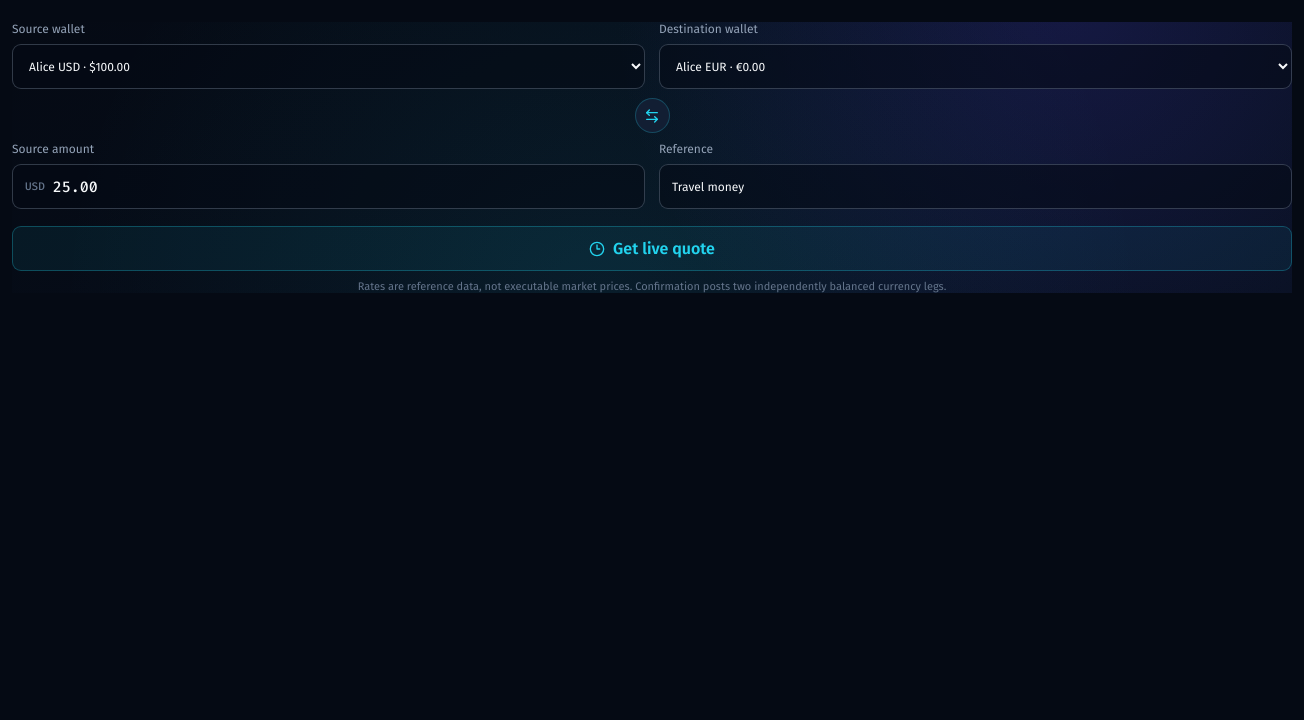
FxConversionForm › requests an exact quote, confirms it once, and invalidates it when inputs change
Click the button "Get live quote" at (652, 248), box [12,226,1292,271]
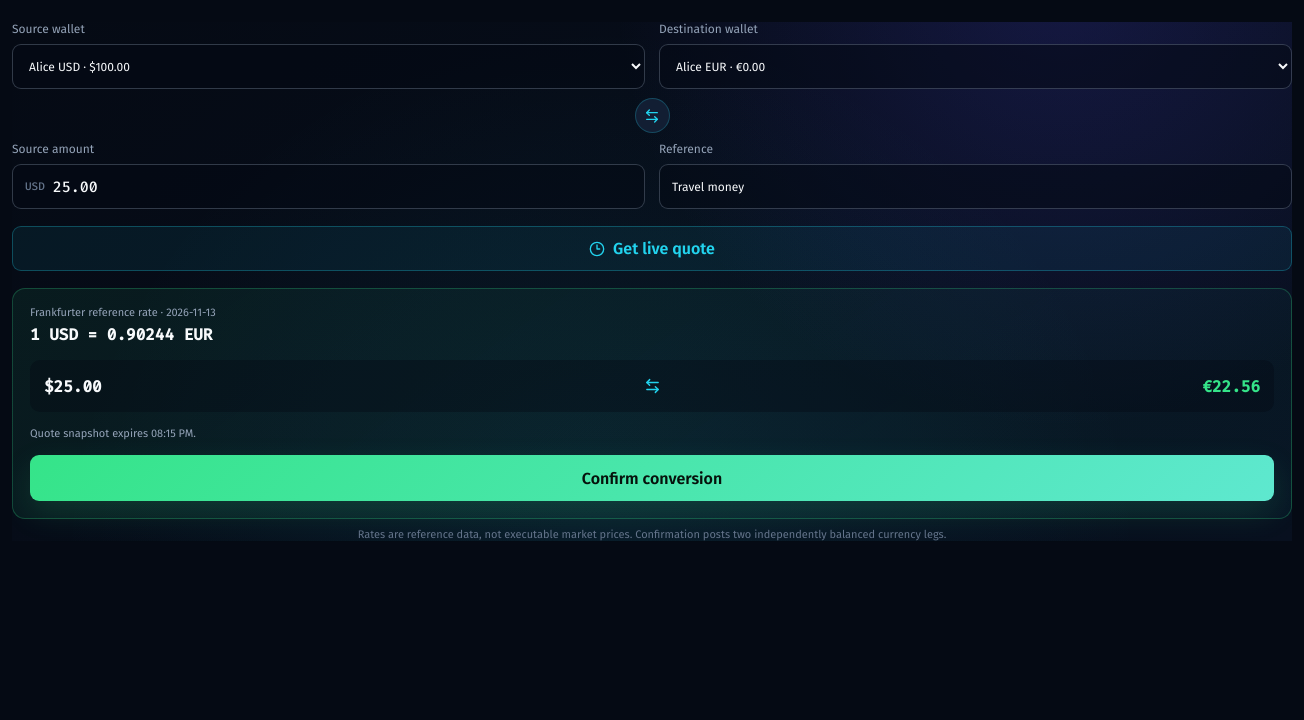
Expected: the text "1 USD = 0.90244 EUR" is shown, [30,324,212,345]
Click the button "Confirm conversion" at (652, 478), box [30,455,1274,501]
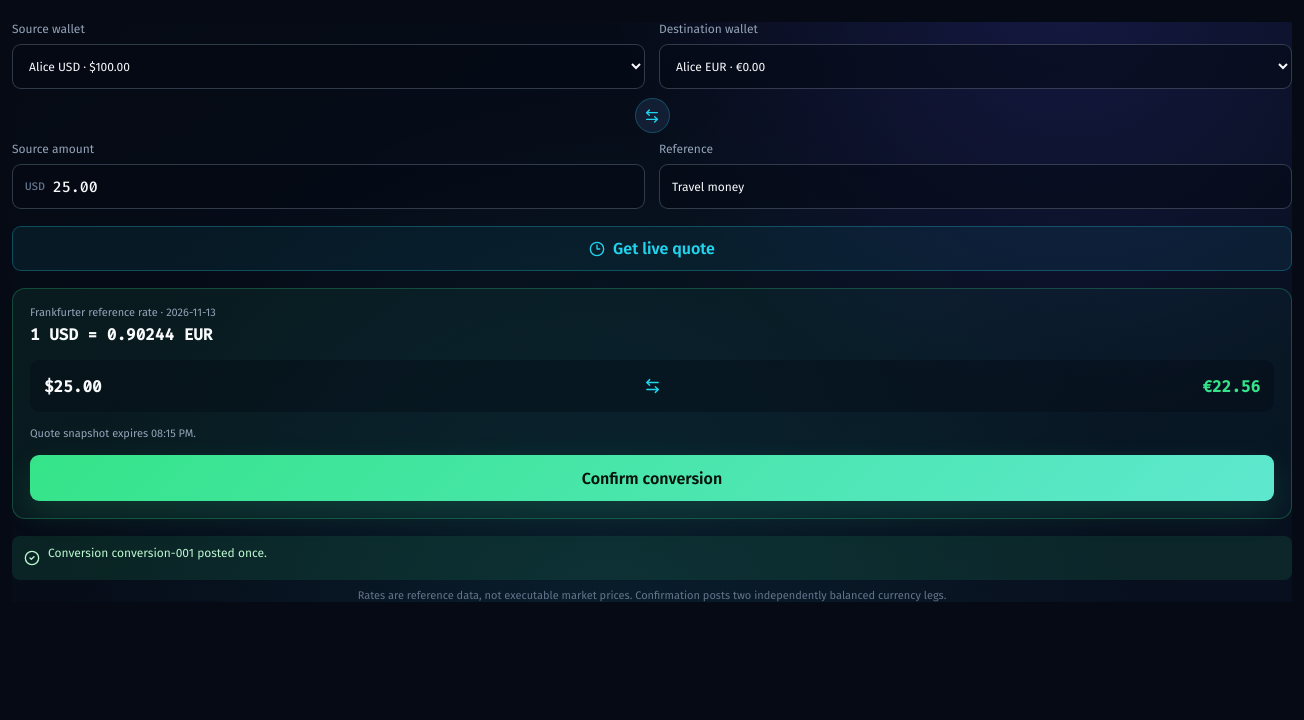
Expected: the message shows "conversion-001", [112,546,194,560]
Replace the text in the field labelled "Source amount" with "26.00" at (338, 186), box [45,166,632,207]
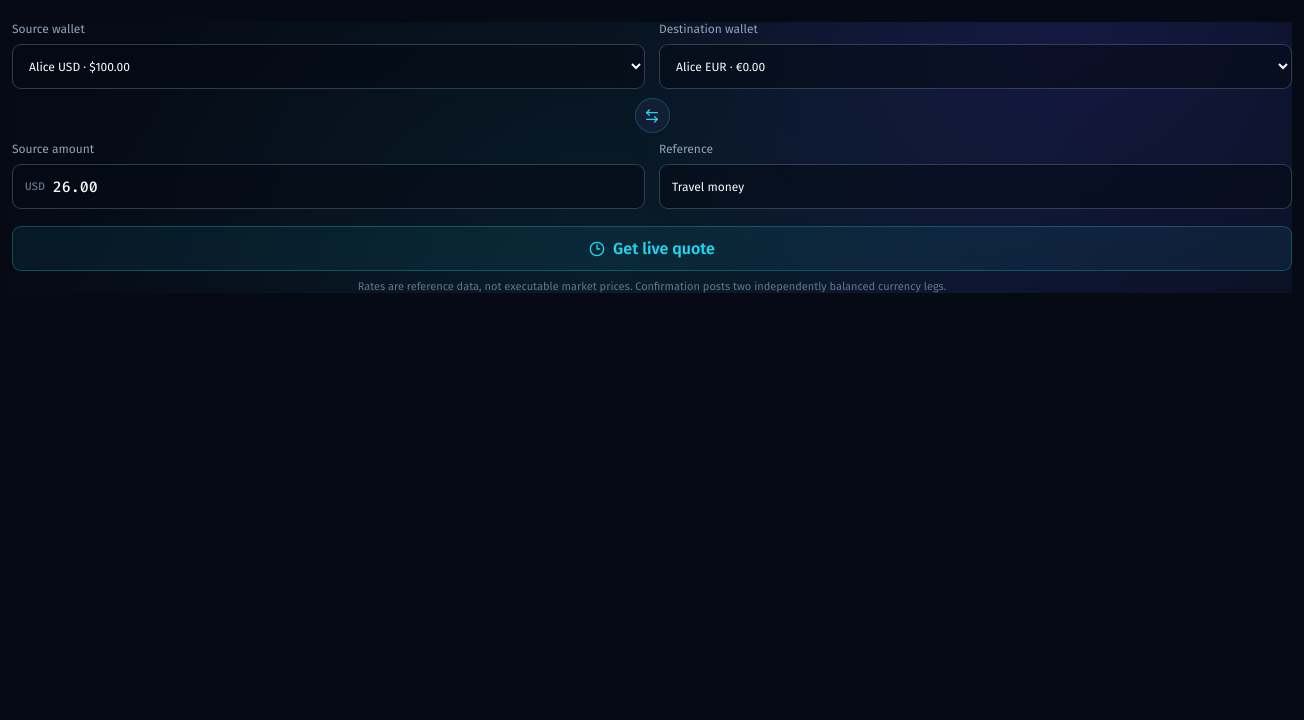
Expected: the text "1 USD = 0.90244 EUR" is gone
Expected: the button "Confirm conversion" is gone
